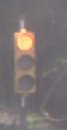Red: (9, 25, 35, 104)
